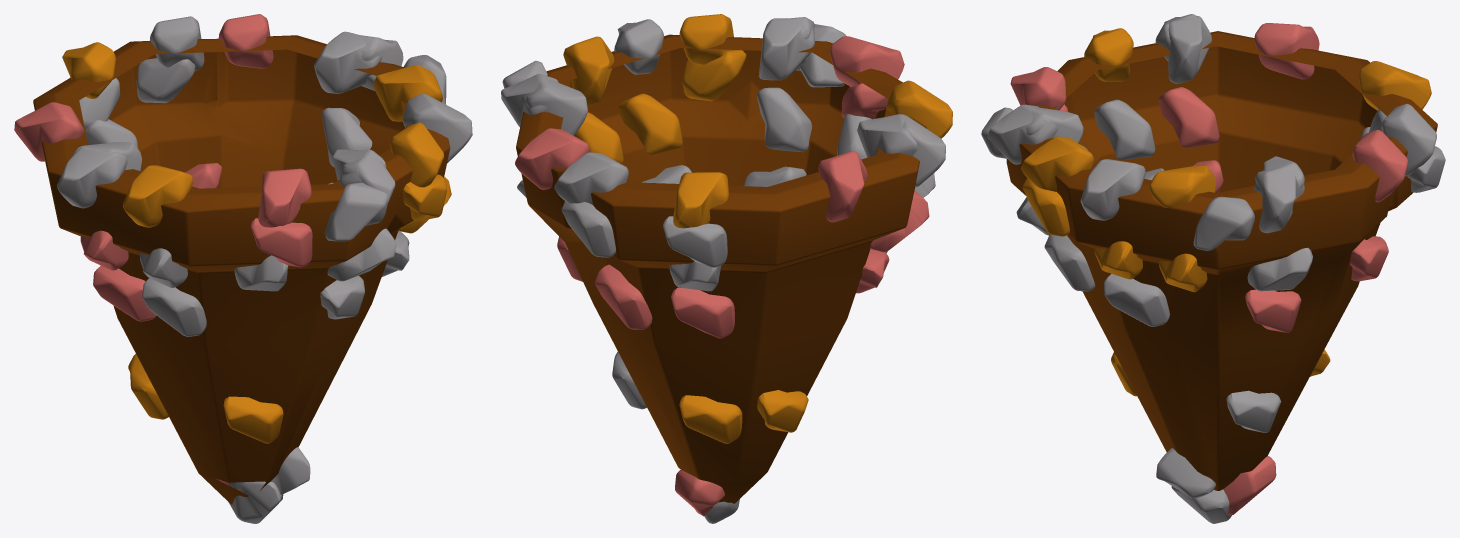
Rendered from Node Island.fbx.
The picture shows the model from 3 angles, left to right: view 1: azimuth 30°, elevation 25°; view 2: azimuth 150°, elevation 25°; view 3: azimuth 270°, elevation 25°; orthographic projection.
Parts seen in each view (by area): view 1: NodeIsland; view 2: NodeIsland; view 3: NodeIsland.
Boxes of the visible parts, x1,y1,x2,y2 form: NodeIsland: [14, 14, 472, 523]; NodeIsland: [501, 14, 952, 523]; NodeIsland: [981, 14, 1445, 523].
Bounding box in the file's own units: 1.08 × 1.08 × 1.07.
